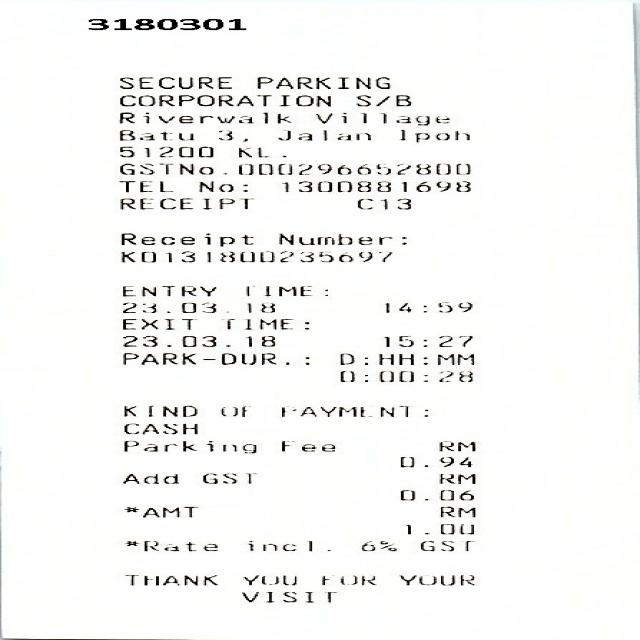text: (233, 162, 467, 173), (116, 94, 328, 106), (280, 180, 470, 191), (203, 250, 390, 261), (119, 111, 288, 122), (314, 112, 448, 125), (87, 18, 245, 29), (119, 232, 252, 245), (122, 353, 275, 364), (255, 76, 388, 88), (122, 440, 255, 452), (276, 232, 404, 244), (338, 353, 472, 364), (117, 197, 250, 208), (276, 405, 409, 416), (339, 370, 471, 381), (119, 76, 230, 88), (120, 334, 228, 346), (119, 284, 215, 296), (239, 591, 334, 602), (117, 146, 210, 157), (123, 539, 216, 550), (123, 574, 215, 585), (275, 130, 368, 140), (122, 302, 215, 312), (122, 505, 196, 517), (382, 302, 470, 312), (382, 336, 470, 346), (120, 250, 193, 262), (238, 284, 309, 296), (218, 317, 289, 329), (398, 129, 467, 141), (123, 405, 196, 416), (123, 423, 196, 434), (396, 456, 469, 467), (122, 318, 192, 329), (402, 523, 472, 534), (399, 574, 474, 584), (119, 130, 192, 140), (398, 490, 471, 500), (245, 540, 311, 550), (355, 94, 407, 106), (119, 162, 170, 174), (196, 180, 246, 192), (116, 180, 169, 191), (418, 539, 470, 550), (280, 441, 334, 451), (122, 473, 176, 483), (240, 574, 294, 584), (201, 472, 249, 483), (357, 198, 408, 208), (319, 576, 374, 584), (176, 163, 211, 174), (361, 539, 394, 550), (242, 334, 272, 346), (438, 473, 473, 483), (439, 506, 474, 516), (216, 128, 245, 140), (216, 405, 248, 415), (243, 301, 272, 312), (438, 441, 473, 450), (255, 147, 285, 156), (238, 147, 249, 156)
